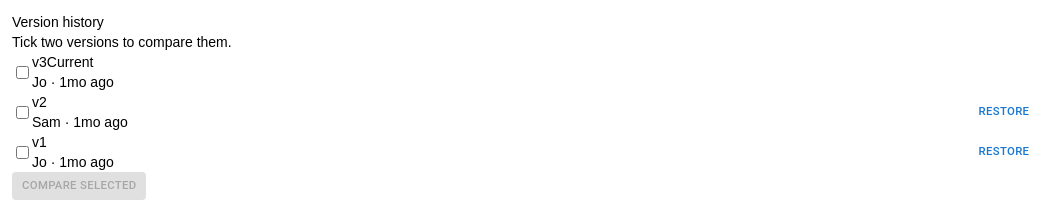
Test: JL-109 compare › needs two versions before it will run
Expected: the text "v3" is shown, [32,54,94,70]
Expected: the button "Compare selected" is disabled, [12,172,146,200]
Click the checkbox named "Select version 1 to compare".
click(22, 152)  # box [16,146,29,158]
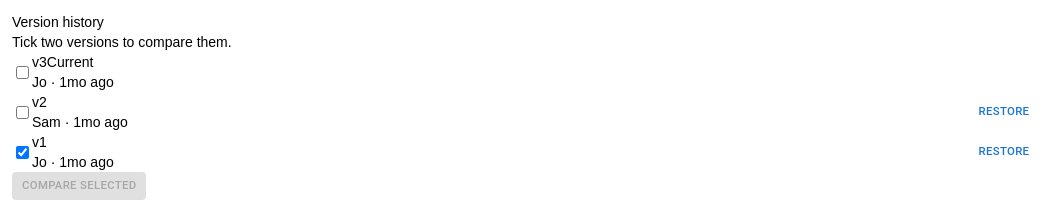
Expected: the button "Compare selected" is disabled, [12,172,146,200]
Click the checkbox named "Select version 3 to compare".
click(22, 72)  # box [16,66,29,78]
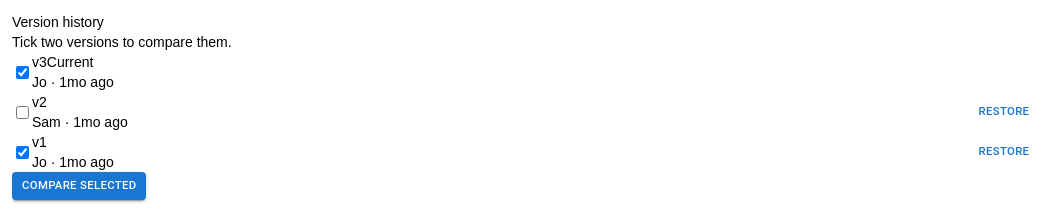
Expected: the button "Compare selected" is enabled, [12,172,146,200]
